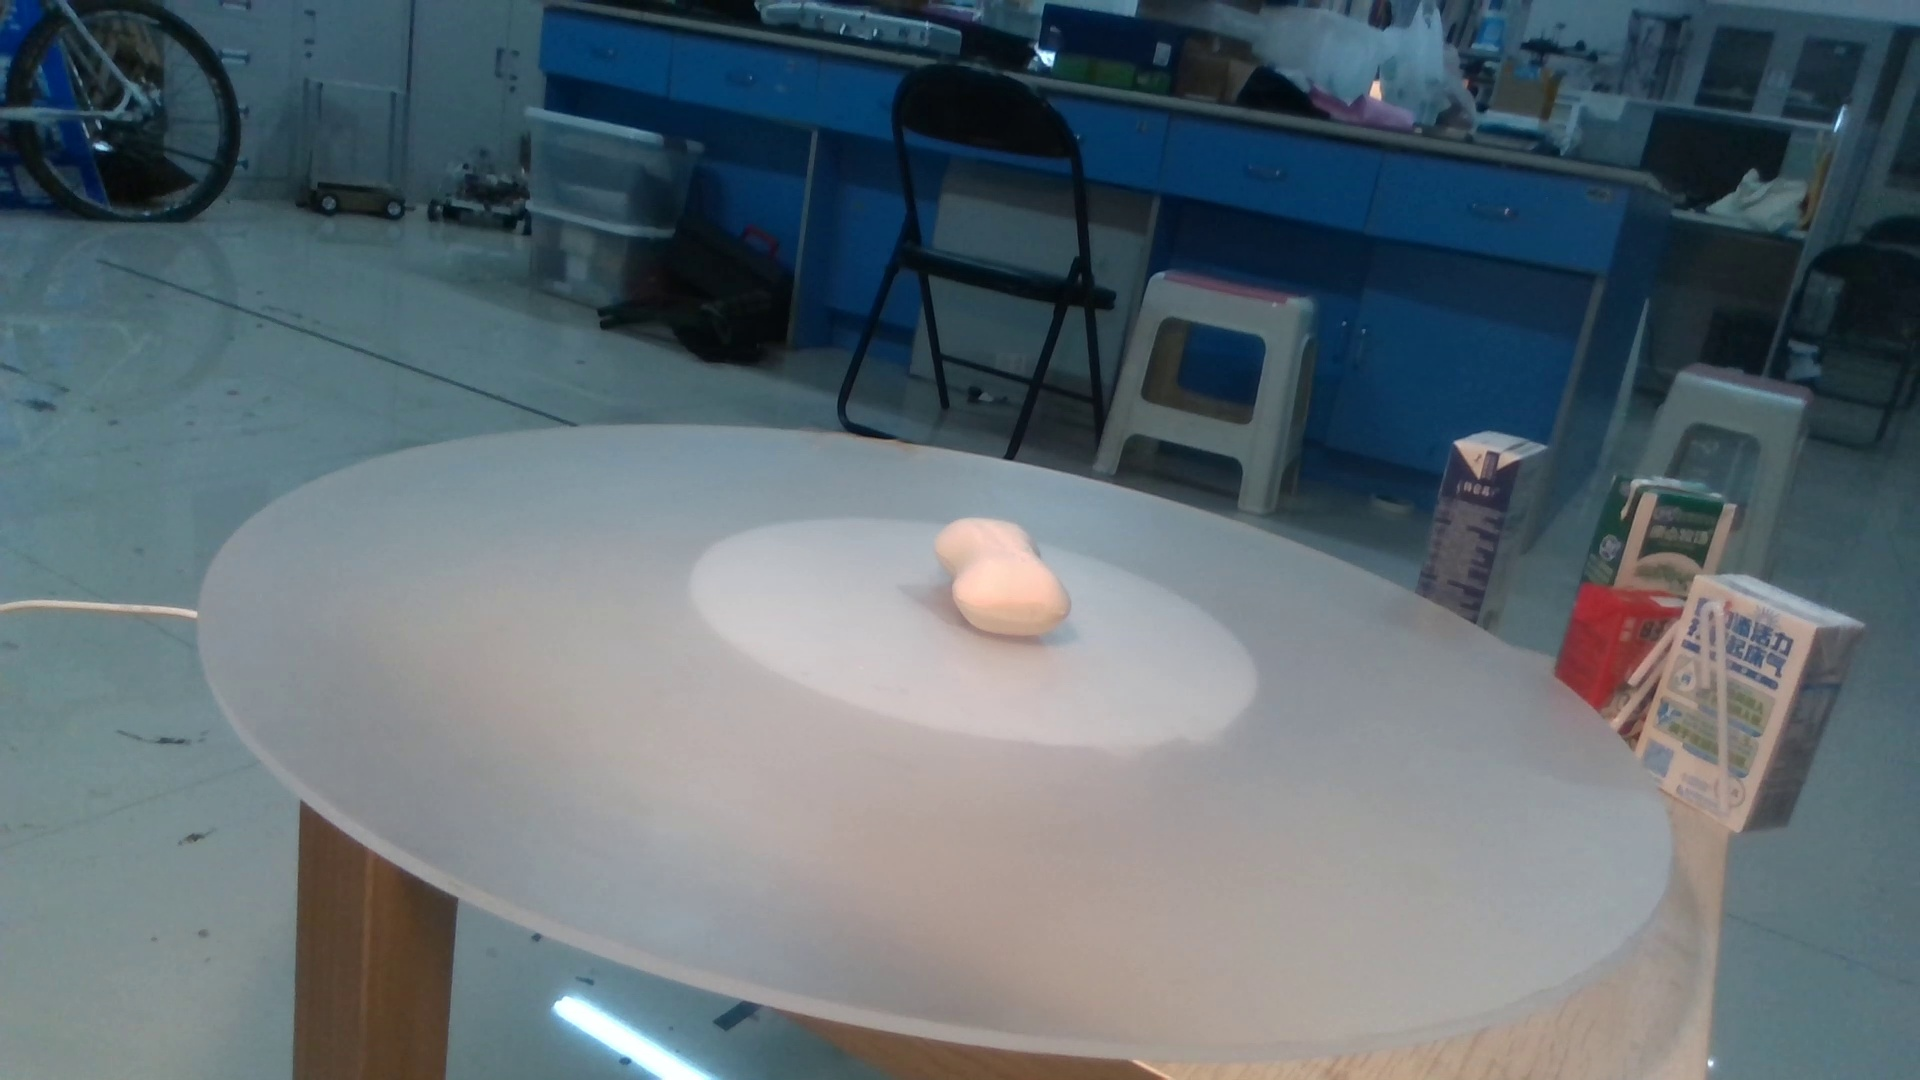CA003_1: (893, 498, 1105, 665)
